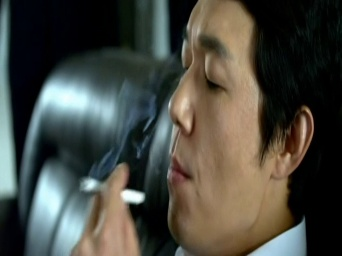smoke: (78, 171, 146, 208)
